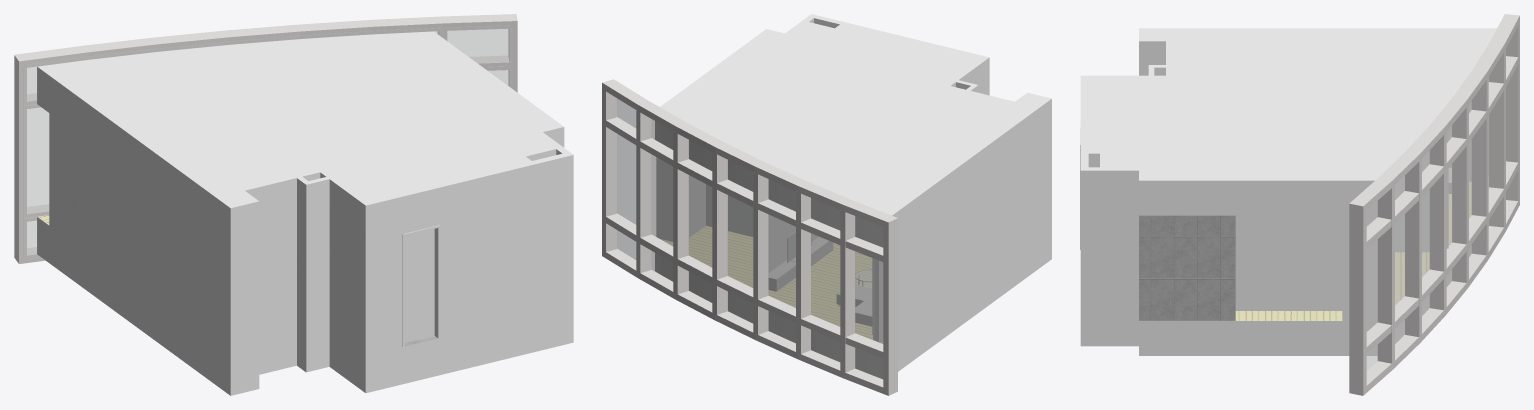
3 renders of one model, left to right at view 1: azimuth 30°, elevation 25°; view 2: azimuth 150°, elevation 25°; view 3: azimuth 270°, elevation 25°, orthographic. The views are drawn at different scales.
Visible parts, largest first — view 1: Group404, Group298, Group300, Group402, Group403, Group299, Group303, Group440, Group350, Group399, Group308, Group307 (+14 smaller); view 2: Group404, Group298, Group402, Group359, Group350, Group360, Group370, Group377, Group401, Group378, Group379, Group316 (+68 smaller); view 3: Group404, Group400, Group, Group402, Group403, Group313, Group335, Group401, Group376, Group374, Group314, Group358 (+42 smaller).
Part boxes in pixels (box(x1,y1,x2,y2)): Group404: box(37, 31, 573, 245); Group298: box(49, 113, 259, 358); Group300: box(361, 192, 573, 355); Group402: box(37, 215, 329, 395); Group403: box(329, 305, 573, 393); Group299: box(259, 215, 296, 337); Group303: box(329, 217, 361, 352); Group440: box(405, 229, 434, 342); Group350: box(23, 104, 49, 218); Group399: box(443, 25, 512, 66); Group308: box(311, 216, 329, 333); Group307: box(297, 216, 311, 334); Group404: box(655, 14, 1051, 247); Group298: box(872, 131, 1051, 342); Group402: box(655, 226, 1051, 379); Group359: box(811, 233, 840, 326); Group350: box(855, 251, 883, 343); Group360: box(768, 215, 795, 307); Group370: box(728, 195, 753, 287); Group377: box(689, 175, 712, 267); Group401: box(656, 157, 697, 241); Group378: box(652, 155, 673, 246); Group379: box(617, 134, 636, 224); Group316: box(883, 257, 897, 357); Group404: box(1080, 28, 1496, 215); Group400: box(1139, 215, 1235, 320); Group: box(1251, 215, 1342, 310); Group402: box(1235, 177, 1488, 355); Group403: box(1080, 311, 1235, 355); Group313: box(1100, 205, 1138, 310); Group335: box(1349, 246, 1366, 353); Group401: box(1342, 215, 1377, 320); Group376: box(1377, 221, 1394, 328); Group374: box(1429, 167, 1446, 274); Group314: box(1235, 215, 1251, 310); Group358: box(1471, 112, 1488, 219).
Bounding box in the file's own units: 11.76 × 5.4 × 11.36.
Materials: 10 (2 with a texture image).
